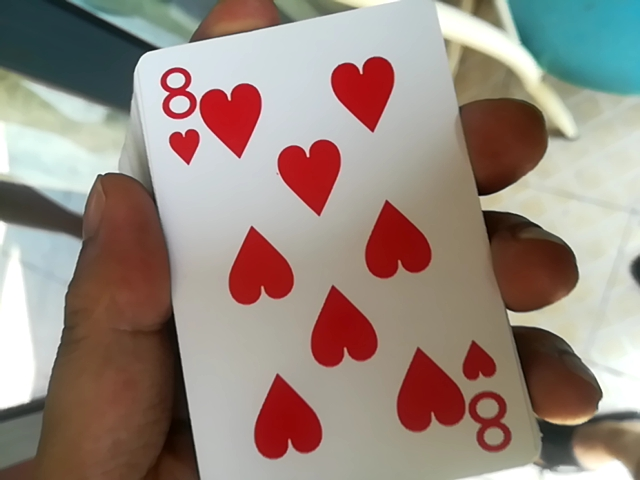hx 8: (138, 10, 565, 478)
